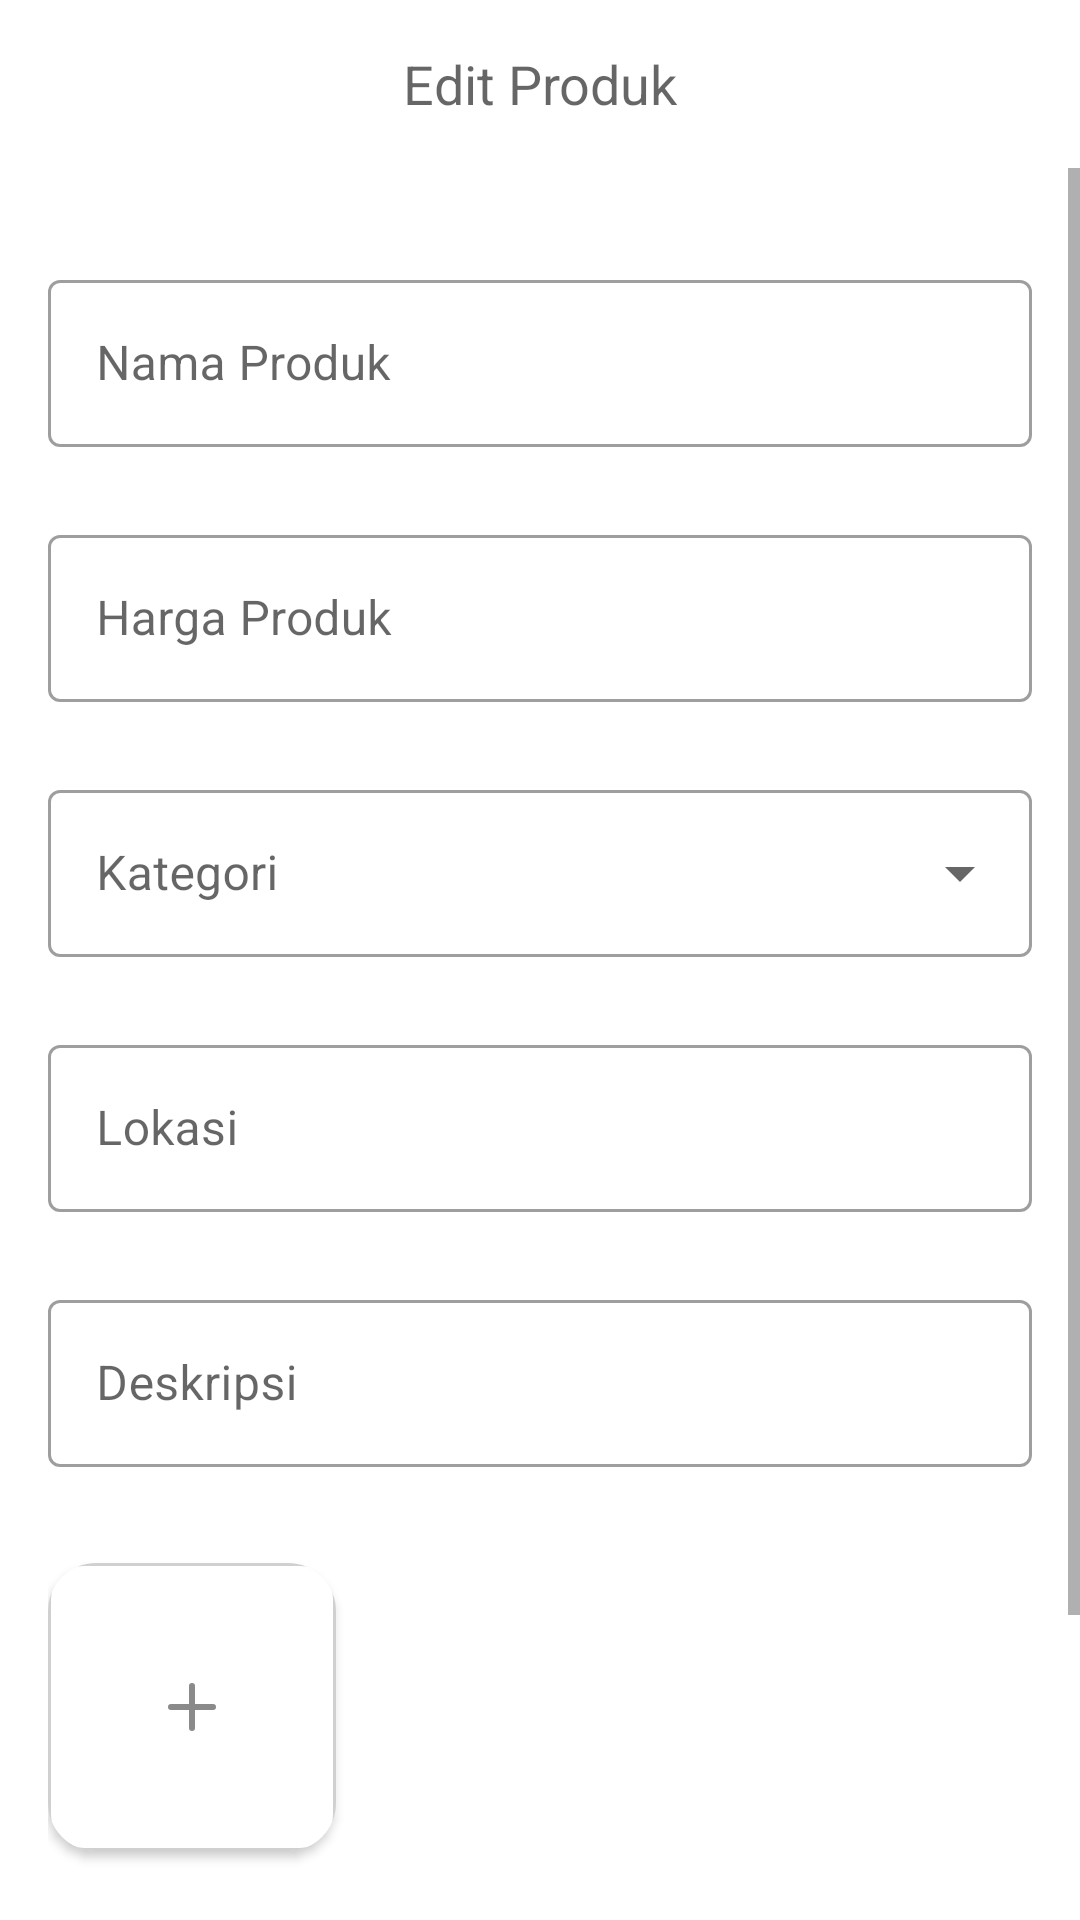

Where to tap for icons on this 1080x1920 app screen, as point (x, y):
add foto: point (208, 1692)
